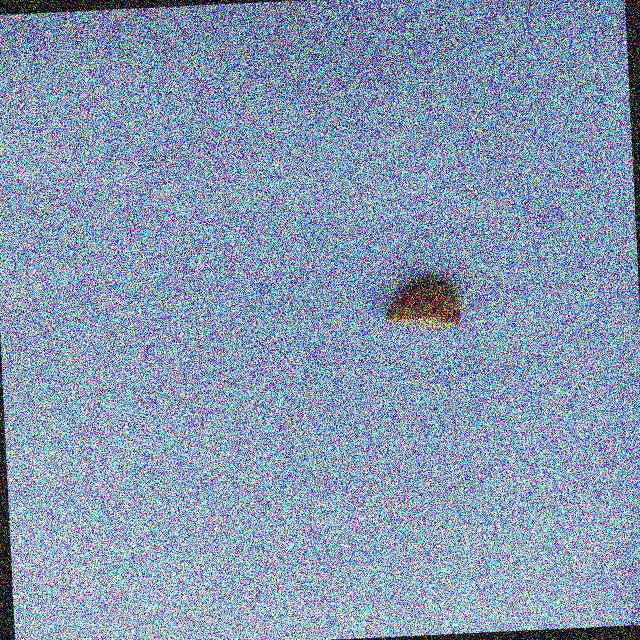grade4: (375, 271, 469, 338)
